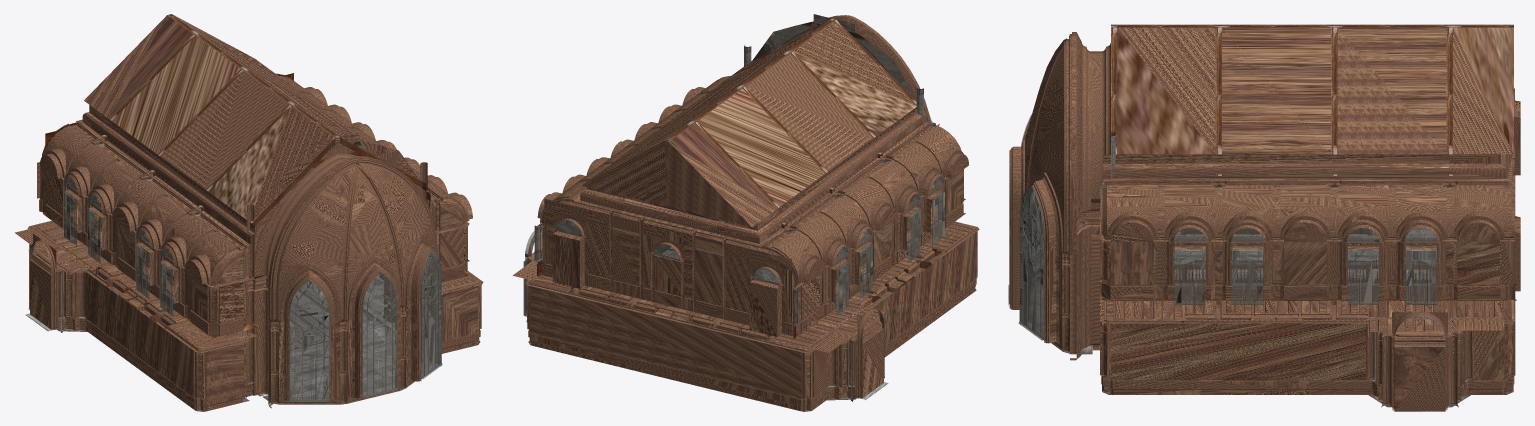
The model's file is library.glb.
The picture shows the model from 3 angles, left to right: view 1: azimuth 30°, elevation 25°; view 2: azimuth 150°, elevation 25°; view 3: azimuth 270°, elevation 25°; orthographic projection. The views are drawn at different scales.
Parts seen in each view (by area): view 1: Material2 (×5), Material3 (×9); view 2: Material2 (×5), Material3 (×5); view 3: Material2 (×5), Material3 (×7).
Part boxes in pixels (box(x1,y1,x2,y2)): Material2 (×5): box(14, 15, 483, 411); Material3 (×9): box(30, 14, 481, 411); Material2 (×5): box(513, 15, 979, 411); Material3 (×5): box(526, 14, 965, 401); Material2 (×5): box(1008, 27, 1520, 411); Material3 (×7): box(1009, 24, 1513, 410).
Bounding box in the file's own units: 4.48 × 3 × 4.82.
19 materials, 19 textured.
